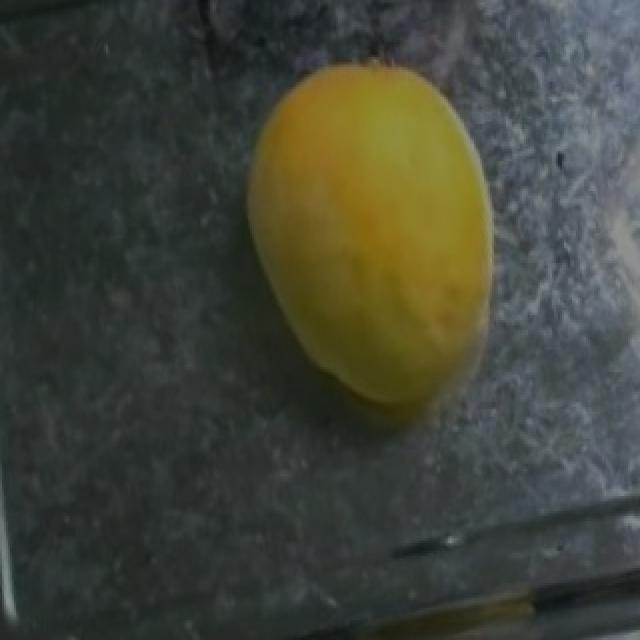fruit: (208, 17, 568, 412)
